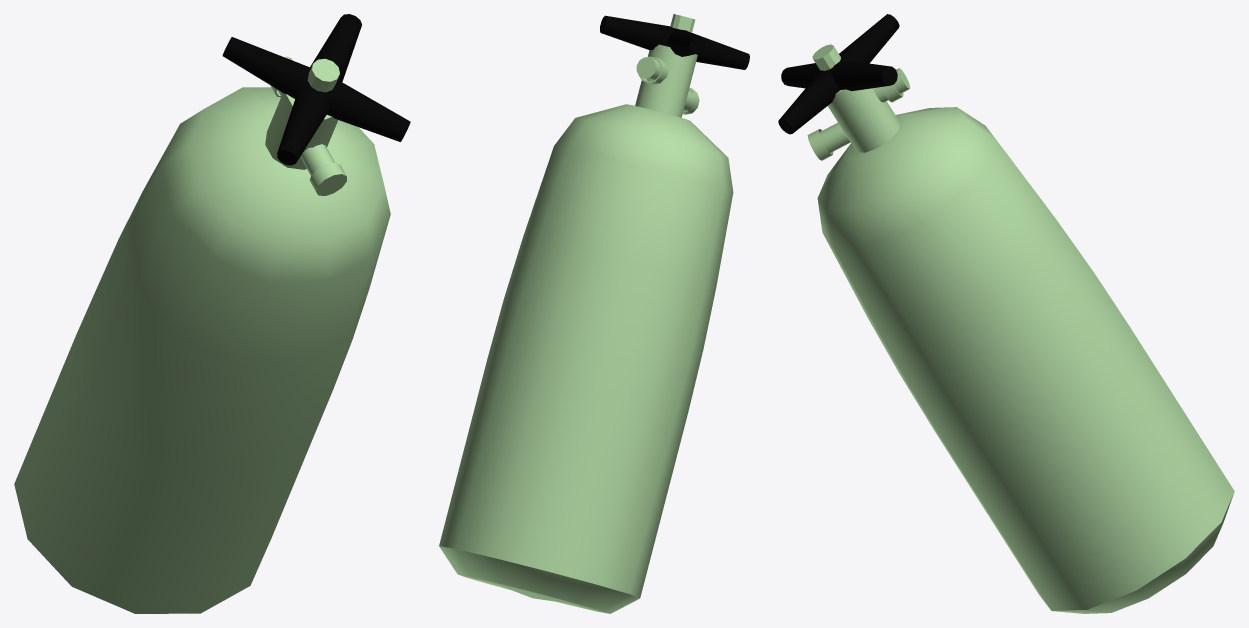
Rendered from SM_ FE_Props_Oxygen Tank.fbx.
The picture shows the model from 3 angles, left to right: view 1: azimuth 30°, elevation 25°; view 2: azimuth 150°, elevation 25°; view 3: azimuth 270°, elevation 25°; orthographic projection. The views are drawn at different scales.
Visible parts, largest first — view 1: SM_ FE_Props_Oxygen Tank; view 2: SM_ FE_Props_Oxygen Tank; view 3: SM_ FE_Props_Oxygen Tank.
Boxes of the visible parts, x1,y1,x2,y2 form: SM_ FE_Props_Oxygen Tank: (14, 14, 410, 613); SM_ FE_Props_Oxygen Tank: (439, 14, 749, 613); SM_ FE_Props_Oxygen Tank: (778, 14, 1234, 613).
Bounding box in the file's own units: 15.18 × 41.61 × 30.57.
